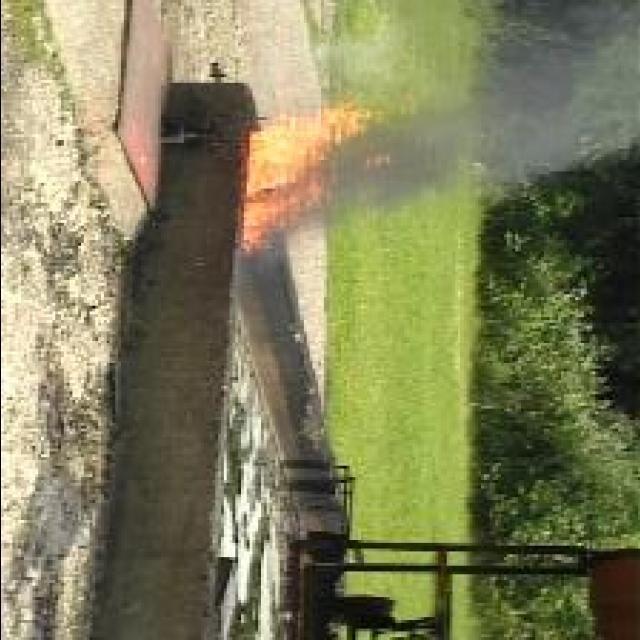Fire: (243, 106, 386, 252)
